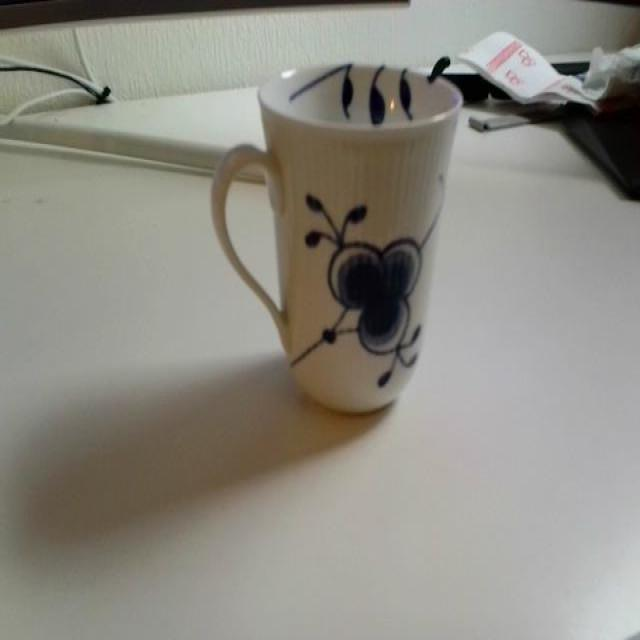cup: (188, 49, 472, 424)
